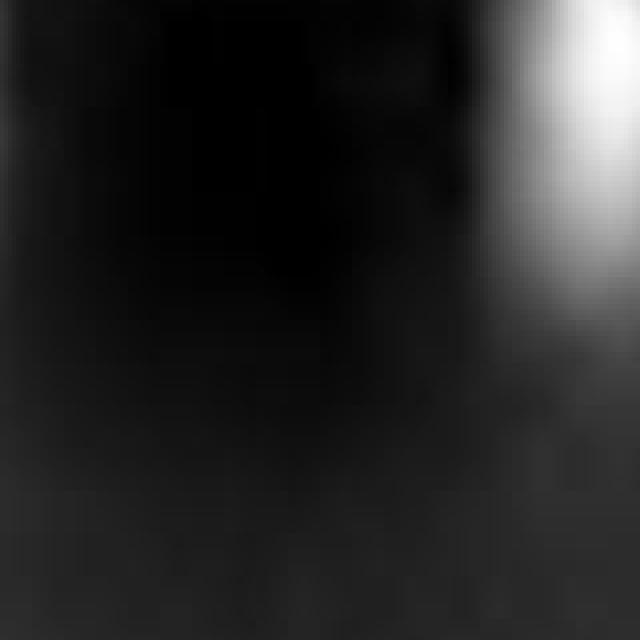person: (473, 1, 640, 385)
